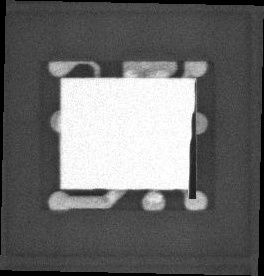DIE_BROKEN: (184, 109, 197, 199)
